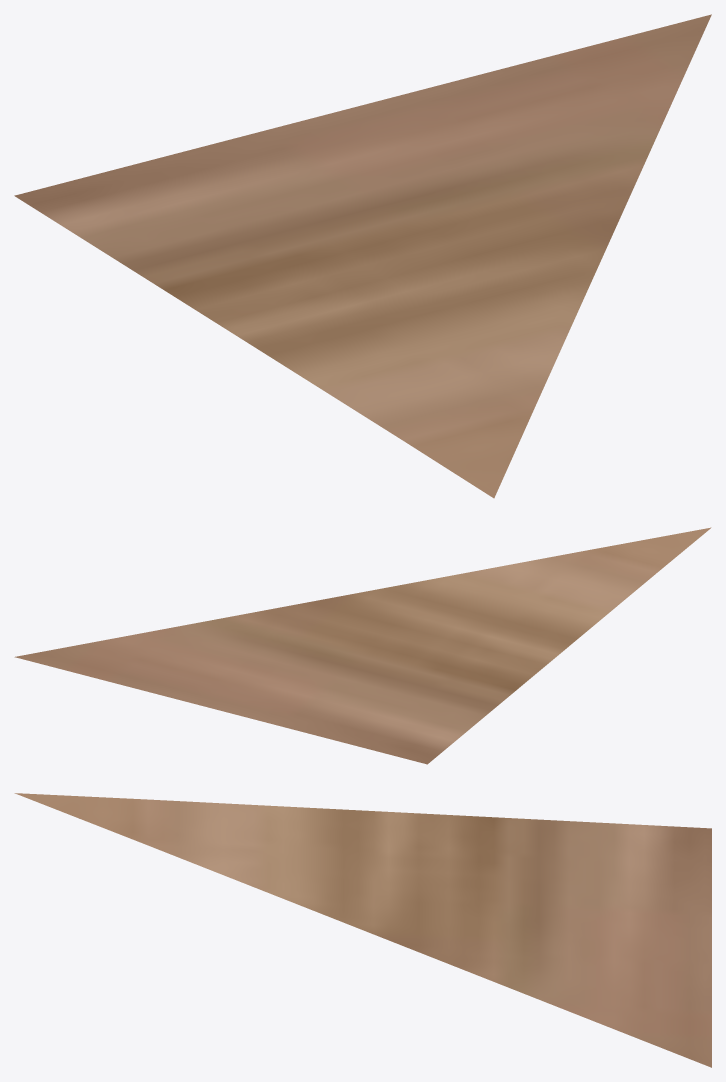
The picture shows the model from 3 angles, top to bottom: view 1: azimuth 30°, elevation 25°; view 2: azimuth 150°, elevation 25°; view 3: azimuth 270°, elevation 25°; orthographic projection. The views are drawn at different scales.
Size of the model in its own units: 0.3117 by 0.0208 by 0.3714.
Materials: 1 (1 with a texture image).
